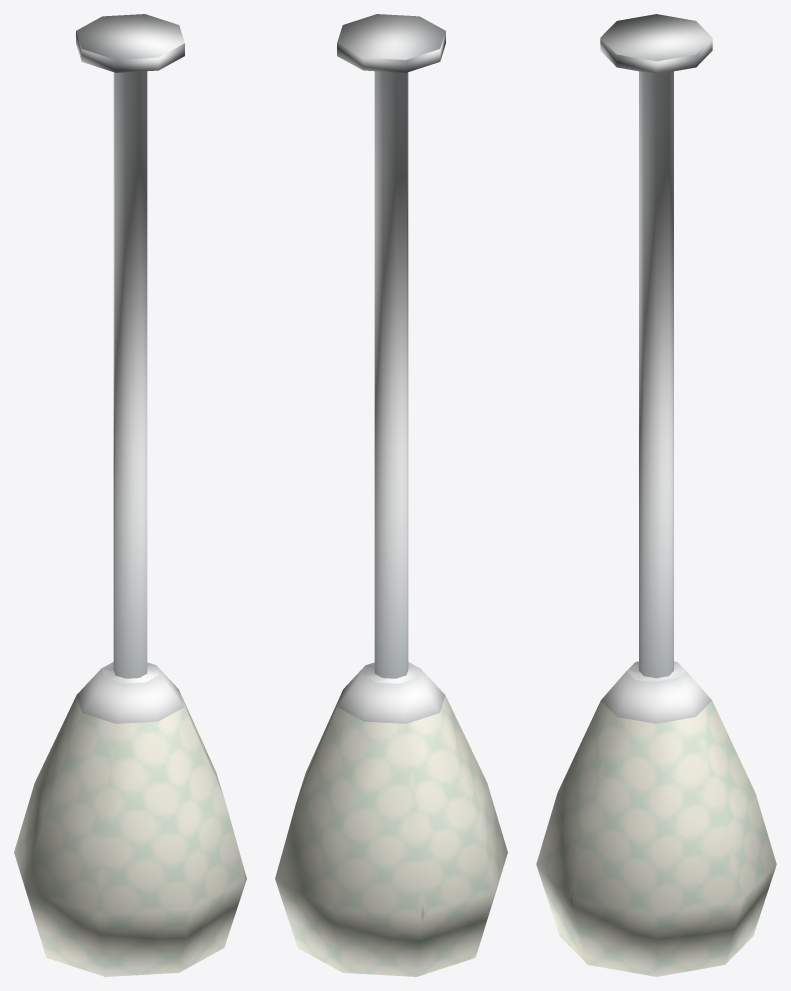
The model's file is Pendant_Light_Long.FBX.
3 renders of one model, left to right at view 1: azimuth 30°, elevation 25°; view 2: azimuth 150°, elevation 25°; view 3: azimuth 270°, elevation 25°, orthographic.
Parts seen in each view (by area): view 1: Pendant Light; view 2: Pendant Light; view 3: Pendant Light.
Part boxes in pixels (x1,y1,x2,y2): Pendant Light: (14, 14, 246, 976); Pendant Light: (275, 14, 507, 976); Pendant Light: (536, 14, 776, 976).
Bounding box in the file's own units: 77.66 × 320 × 77.66.
